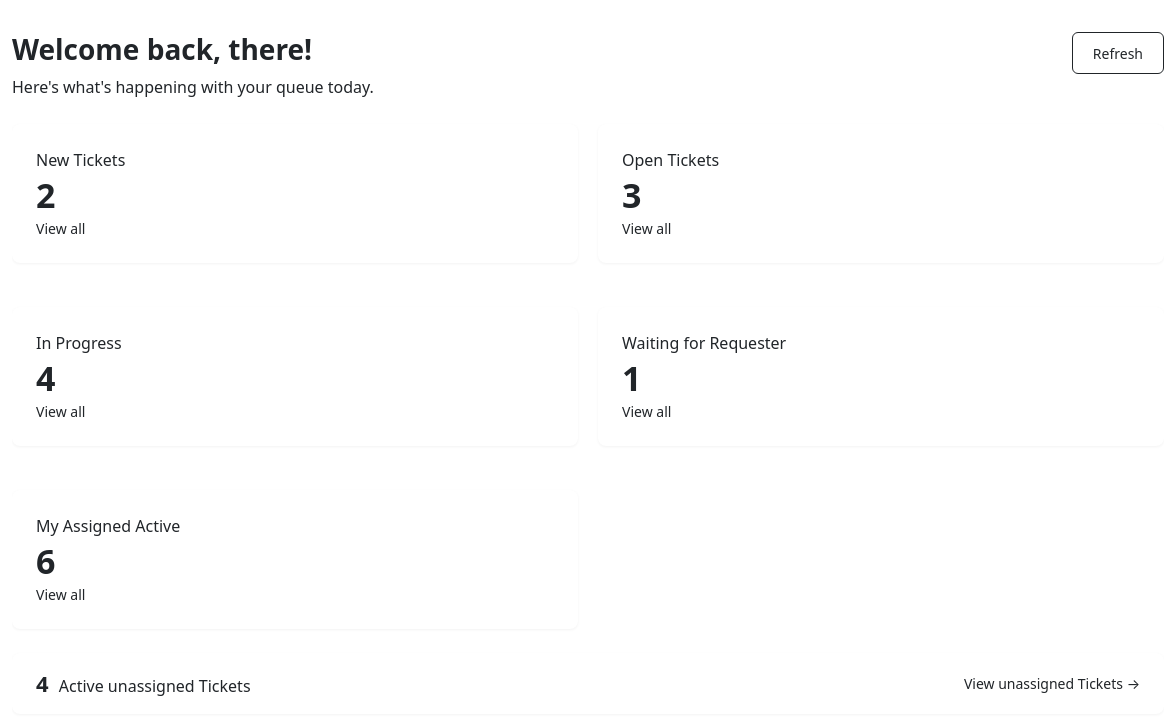
Test: Feature 20 staff dashboard UI › UI-02: announces a successful refresh even when the response is immediate
Expected: the link with aria-label "My Assigned Active: 6" is shown, [12,490,578,629]
Click the button "Refresh".
click(1118, 53)  # box [1072,32,1164,74]
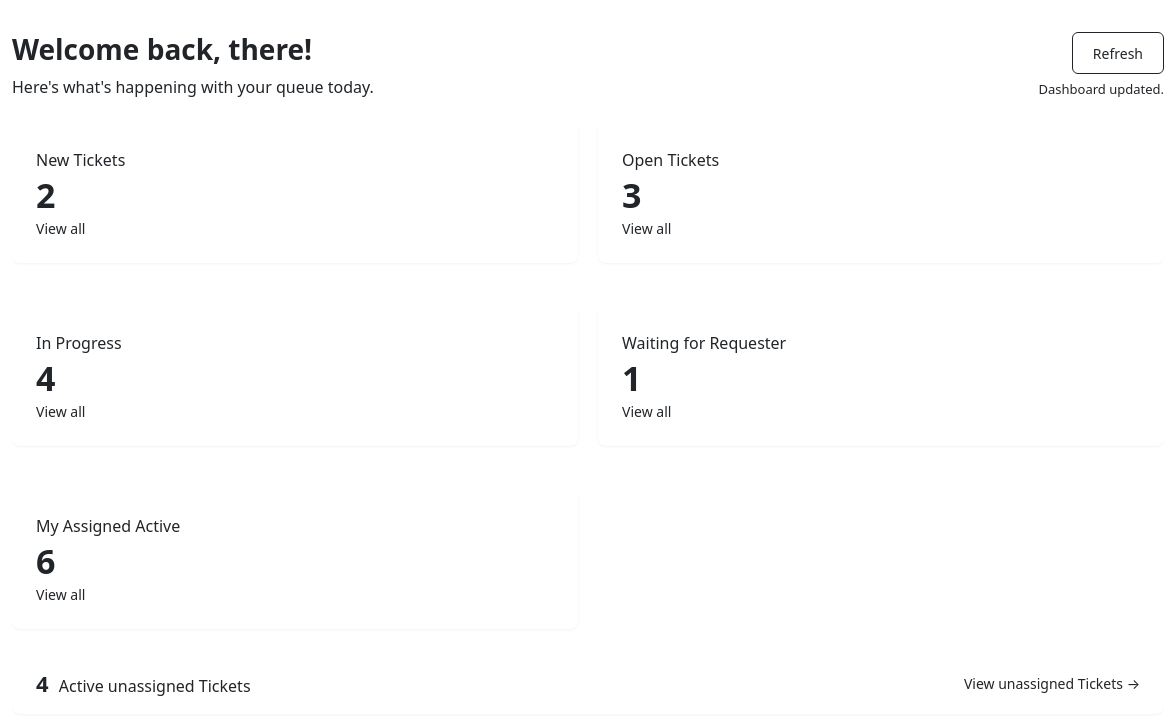
Expected: the message reads "Dashboard updated.", [1038,80,1164,98]
